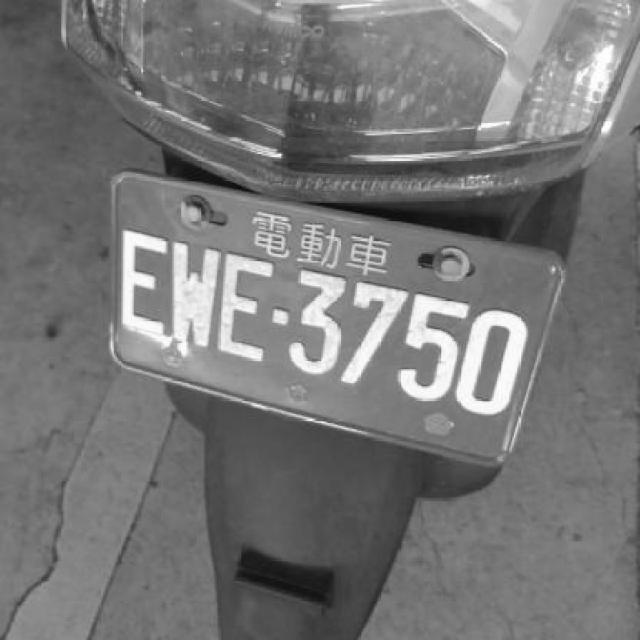-: (268, 303, 290, 328)
0: (447, 294, 534, 420)
3: (284, 264, 347, 379)
5: (387, 284, 470, 405)
7: (333, 277, 411, 385)
E: (211, 246, 278, 365), (118, 223, 170, 333)
W: (170, 236, 221, 349)
